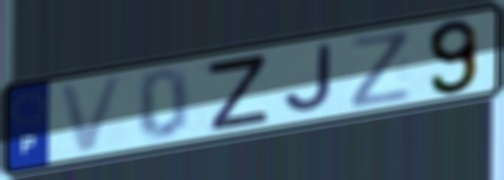0: (134, 65, 193, 143)
9: (423, 17, 484, 96)
J: (281, 41, 336, 116)
V: (55, 71, 130, 157)
Z: (202, 52, 272, 134), (349, 27, 415, 112)
